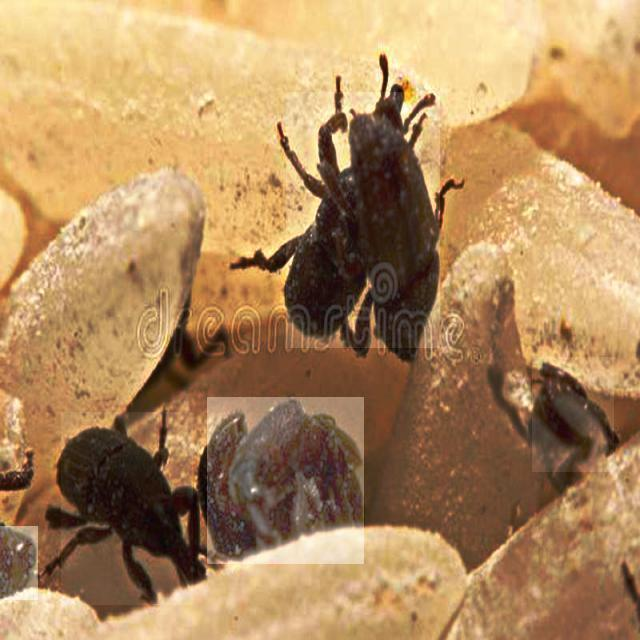rice-bug: (286, 92, 440, 348), (207, 397, 364, 564), (62, 412, 194, 605), (532, 357, 614, 472), (0, 526, 38, 600)
